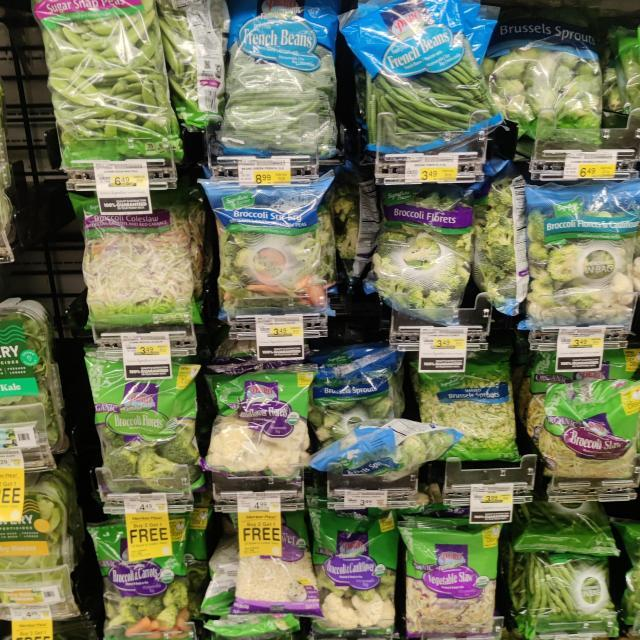Broccoli: (73, 361, 209, 509), (201, 180, 342, 322), (513, 182, 639, 334), (363, 189, 487, 321), (89, 523, 203, 640)
Brussel Sprouts: (491, 18, 617, 154), (318, 362, 435, 486)
Cauliflower: (204, 361, 320, 488), (300, 508, 408, 640)
Salad: (66, 187, 206, 328), (399, 508, 520, 640)
